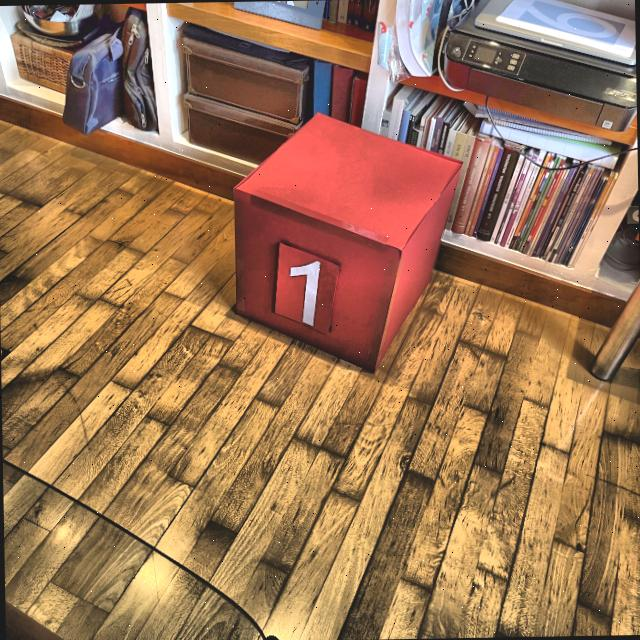one: (288, 258, 323, 327)
red box: (230, 110, 469, 376)
